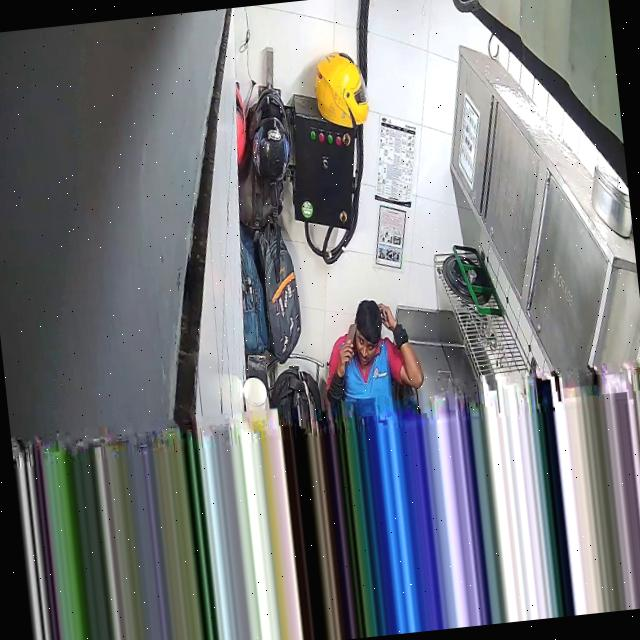helmet: (315, 50, 368, 128), (249, 88, 290, 181)
no_helmet: (354, 299, 382, 365)
